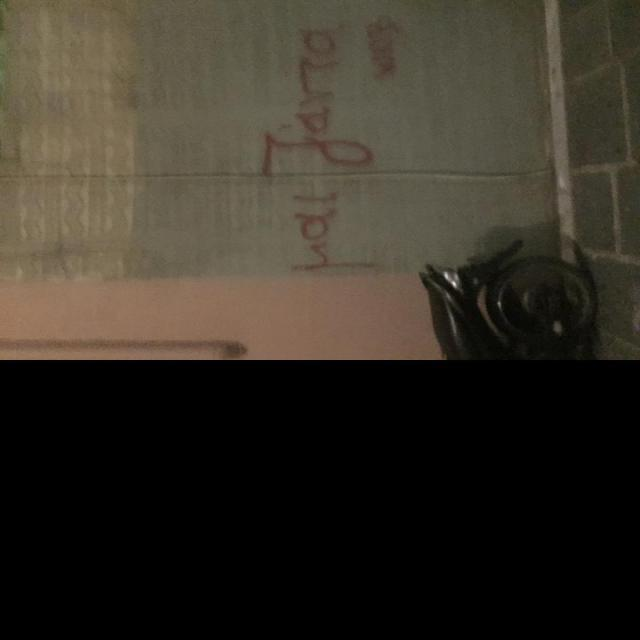nonspitting: (260, 16, 398, 274)
